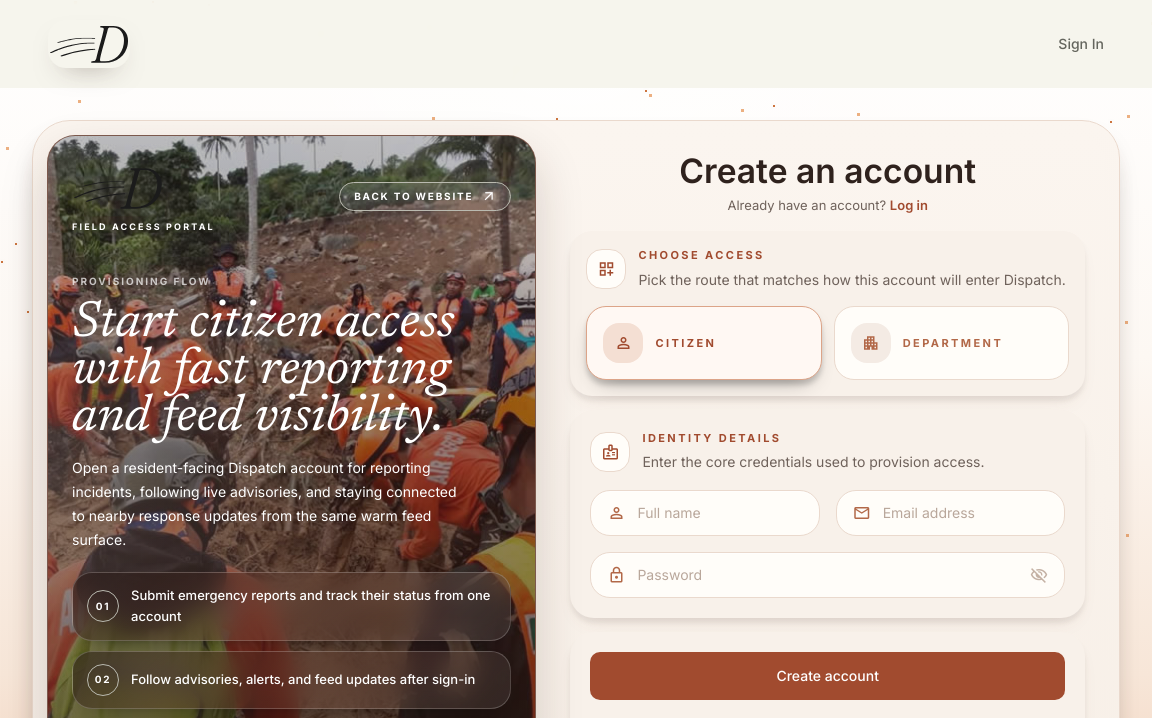
RegisterPage › shows department fields when department role is selected
Click the button "department": (951, 343) [834, 306, 1069, 380]
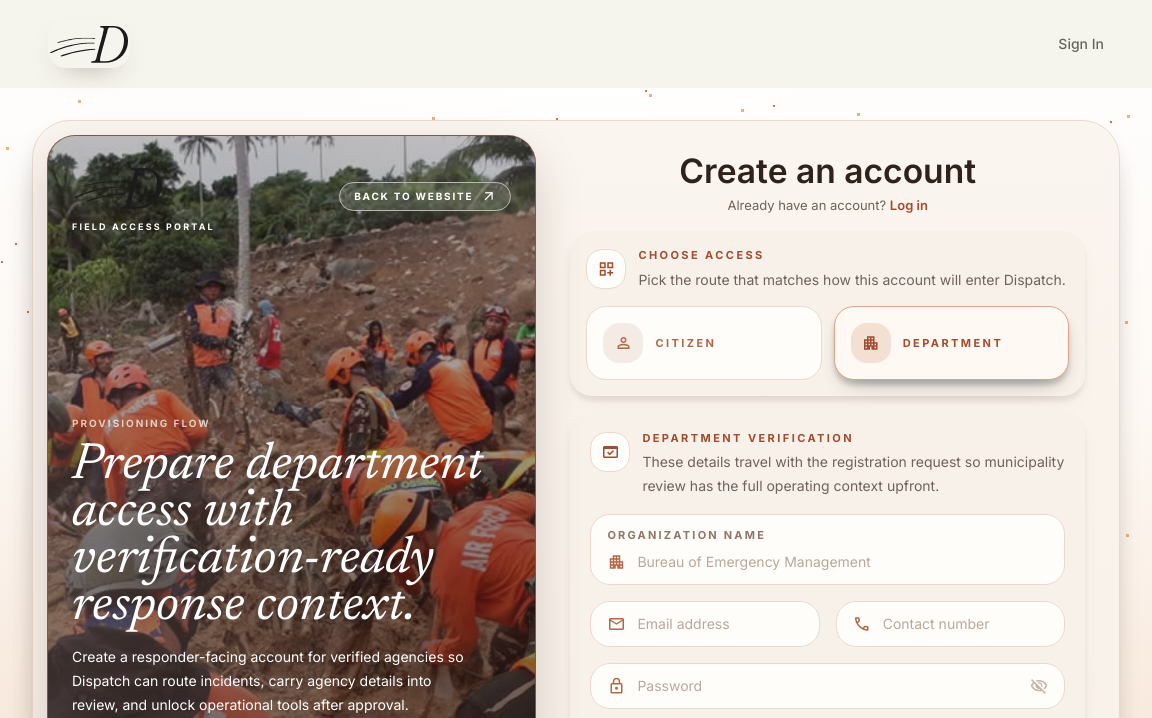
Now the field with placeholder "Bureau of Emergency Management" is shown, box [637, 552, 1048, 572]
